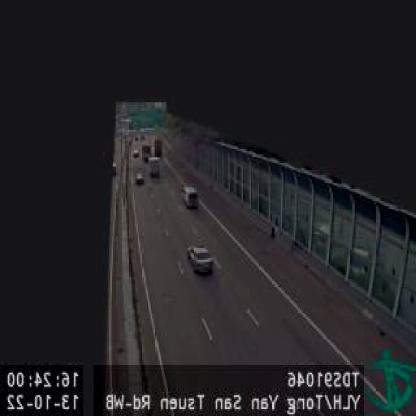Car: (184, 243, 214, 278), (180, 184, 198, 209), (133, 172, 144, 186), (131, 148, 140, 159)
Truck: (148, 157, 161, 180)
